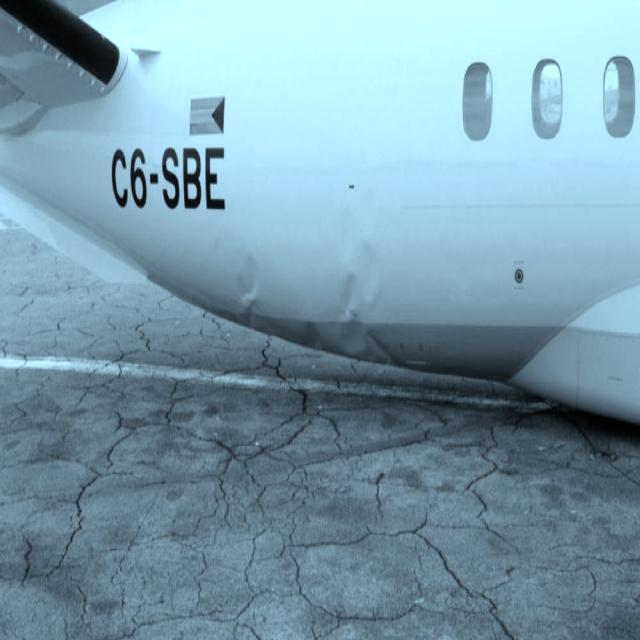dent: (330, 184, 381, 377), (236, 255, 269, 336)
